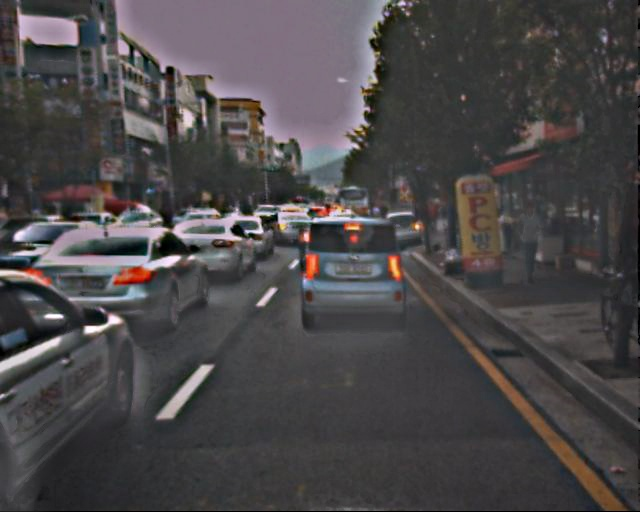person: (512, 203, 546, 287)
